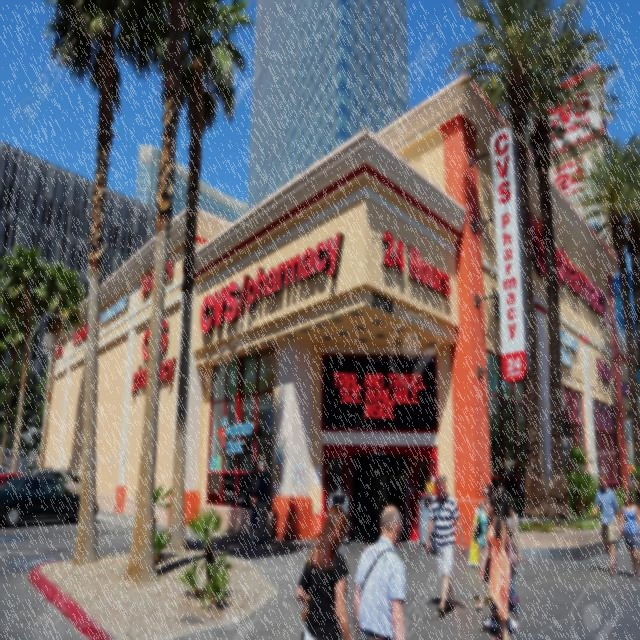pessoa: (294, 500, 356, 640), (350, 502, 412, 640), (424, 472, 468, 617), (478, 490, 512, 640), (592, 471, 624, 578), (496, 492, 523, 614), (472, 484, 493, 612), (481, 566, 521, 632), (618, 487, 640, 585), (250, 459, 272, 547), (246, 464, 264, 543), (512, 534, 524, 568), (510, 507, 518, 536), (496, 484, 504, 492)
